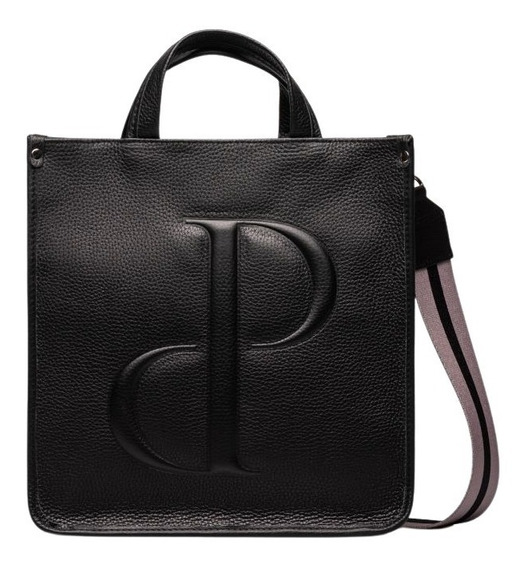cartera: (25, 28, 501, 540)
